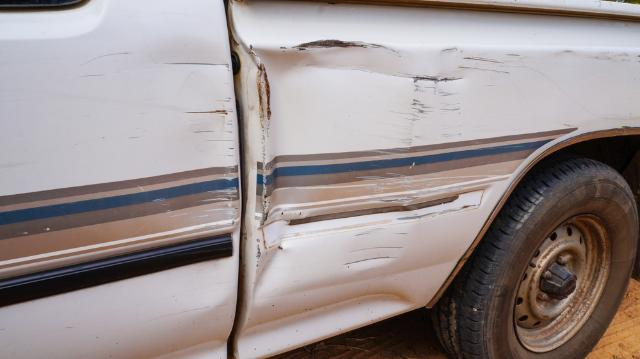dent: (253, 45, 467, 302), (132, 35, 236, 232)
